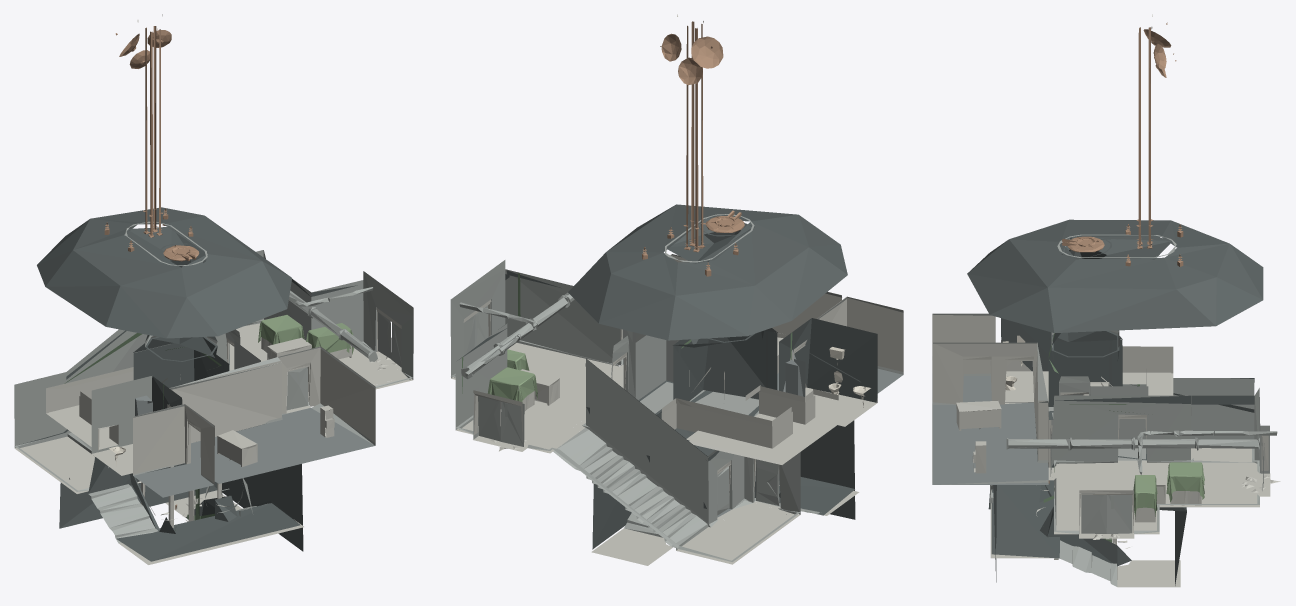
File: entrance_bunker_d.glb
3 renders of one model, left to right at view 1: azimuth 30°, elevation 25°; view 2: azimuth 150°, elevation 25°; view 3: azimuth 270°, elevation 25°, orthographic. The views are drawn at different scales.
Visible parts, largest first — view 1: stairwell_top_country_a_LOD0, stairwell_top_country_b_LOD0, wooden_crate_d_red; view 2: stairwell_top_country_a_LOD0, stairwell_top_country_b_LOD0, wooden_crate_d_red; view 3: stairwell_top_country_a_LOD0, stairwell_top_country_b_LOD0, wooden_crate_d_red.
Part boxes in pixels (x1,y1,x2,y2): stairwell_top_country_a_LOD0: [14, 26, 413, 564]; stairwell_top_country_b_LOD0: [109, 395, 375, 497]; wooden_crate_d_red: [258, 315, 354, 354]; stairwell_top_country_a_LOD0: [450, 21, 903, 565]; stairwell_top_country_b_LOD0: [621, 347, 903, 517]; wooden_crate_d_red: [487, 349, 537, 403]; stairwell_top_country_a_LOD0: [932, 22, 1280, 587]; stairwell_top_country_b_LOD0: [932, 335, 1048, 484]; wooden_crate_d_red: [1133, 462, 1204, 519].
Size of the model in its own units: 18.93 by 27.83 by 16.53.
